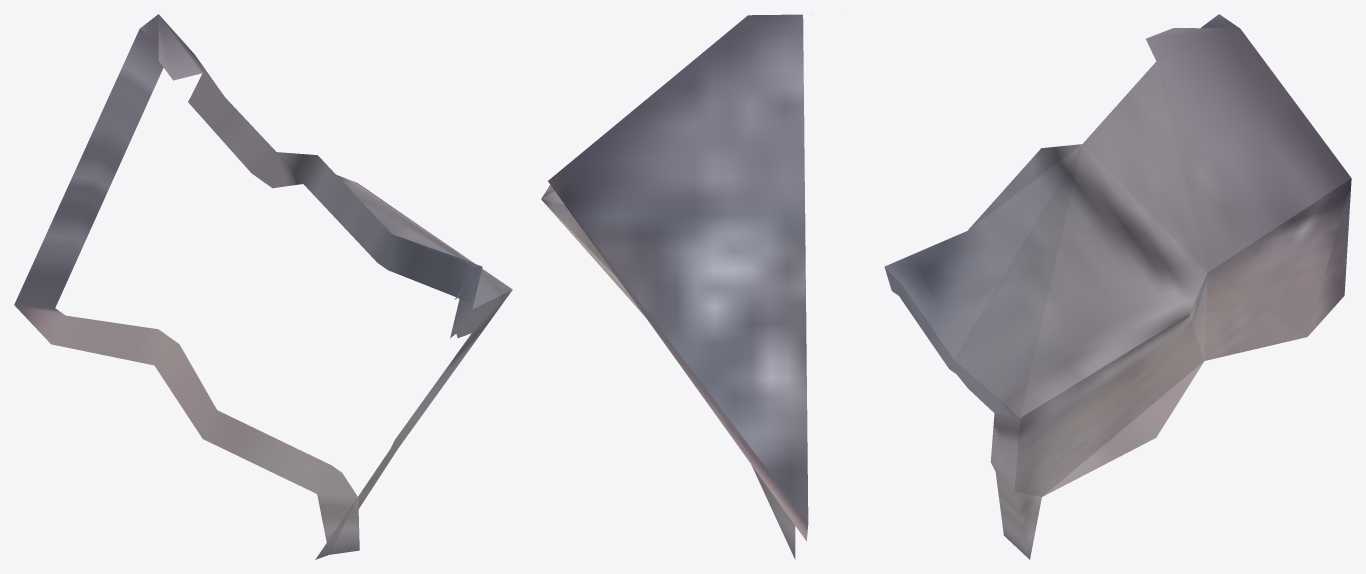
The picture shows the model from 3 angles, left to right: view 1: azimuth 30°, elevation 25°; view 2: azimuth 150°, elevation 25°; view 3: azimuth 270°, elevation 25°; orthographic projection. The views are drawn at different scales.
Bounding box in the file's own units: 4.63 × 6.26 × 5.33.
1 material, 1 textured.
